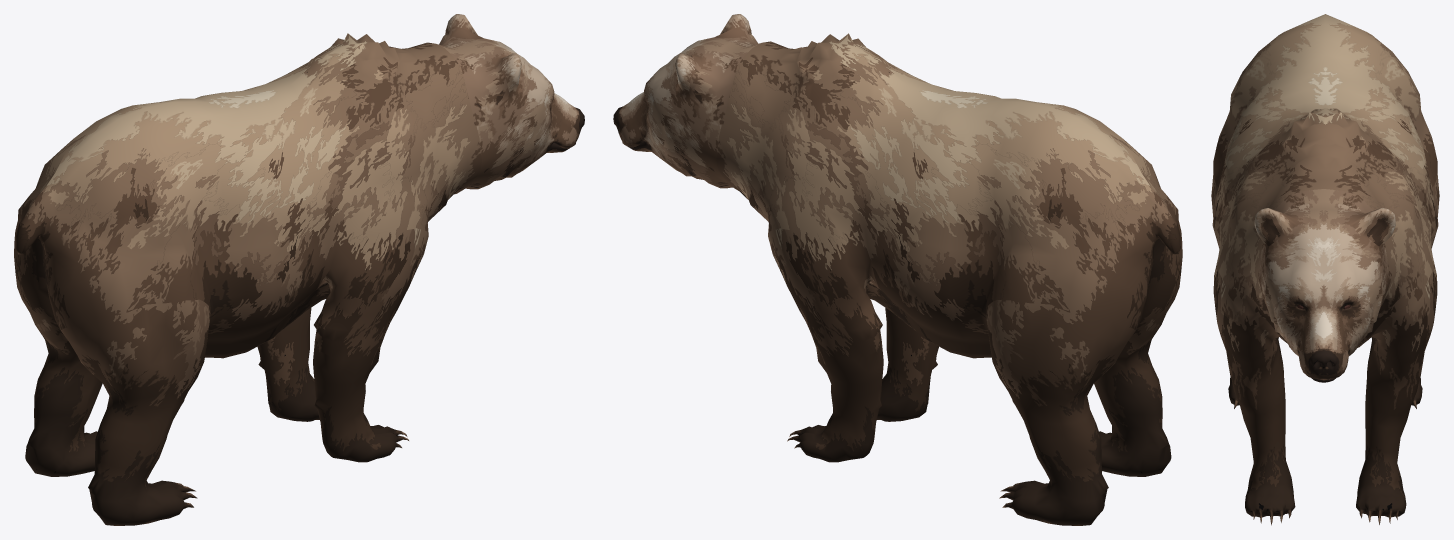
File: medved.glb
3 views of the same model, side by side, from view 1: azimuth 30°, elevation 25°; view 2: azimuth 150°, elevation 25°; view 3: azimuth 270°, elevation 25° (orthographic). The views are drawn at different scales.
Visible parts, largest first — view 1: sm_3_0_0_Bear_Body_0, sm_3_0_0_Bear_Head_0; view 2: sm_3_0_0_Bear_Body_0, sm_3_0_0_Bear_Head_0; view 3: sm_3_0_0_Bear_Body_0, sm_3_0_0_Bear_Head_0.
Boxes of the visible parts, x1,y1,x2,y2 form: sm_3_0_0_Bear_Body_0: [14, 33, 481, 525]; sm_3_0_0_Bear_Head_0: [437, 14, 584, 189]; sm_3_0_0_Bear_Body_0: [716, 33, 1182, 525]; sm_3_0_0_Bear_Head_0: [613, 14, 760, 188]; sm_3_0_0_Bear_Body_0: [1211, 14, 1439, 525]; sm_3_0_0_Bear_Head_0: [1254, 189, 1395, 382].
Size of the model in its own units: 1.94 by 1.3 by 0.6544.
3 materials, 3 textured.
